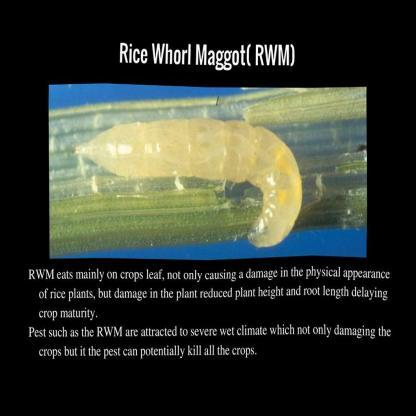whorl-maggot: (68, 113, 313, 249)
